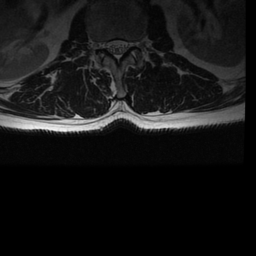CCS_normal: (113, 31, 121, 67)
LFS_stenosis: (129, 32, 136, 55)
LLS_normal: (121, 33, 129, 60)
RFS_normal: (97, 32, 105, 56)
RLS_normal: (105, 32, 113, 60)
